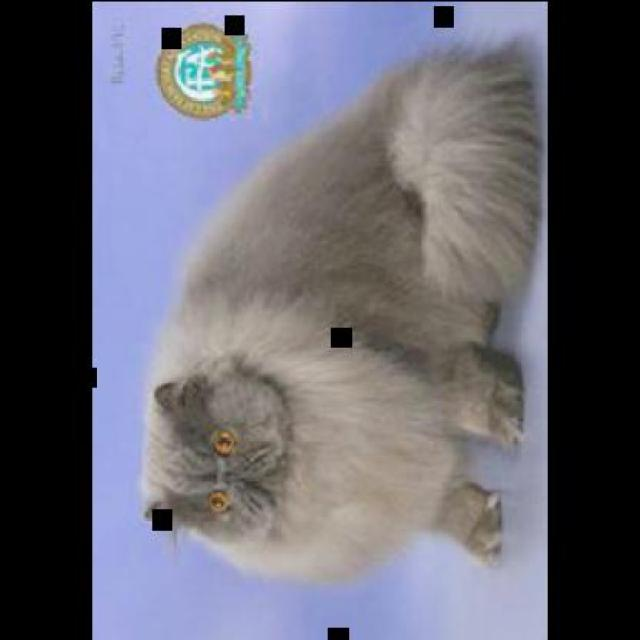unauthorized: (138, 32, 540, 585)
